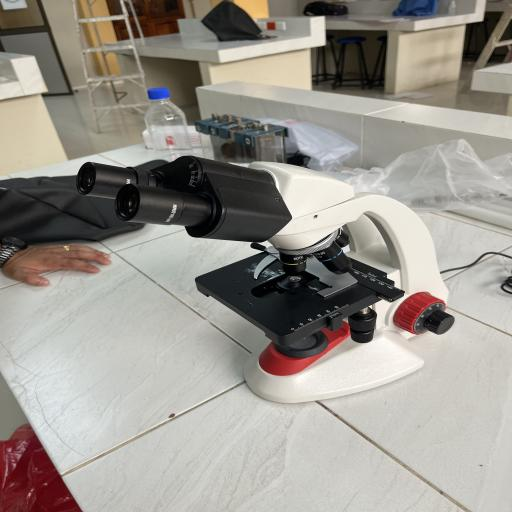Microscopio_Binocular: (62, 142, 463, 409)
